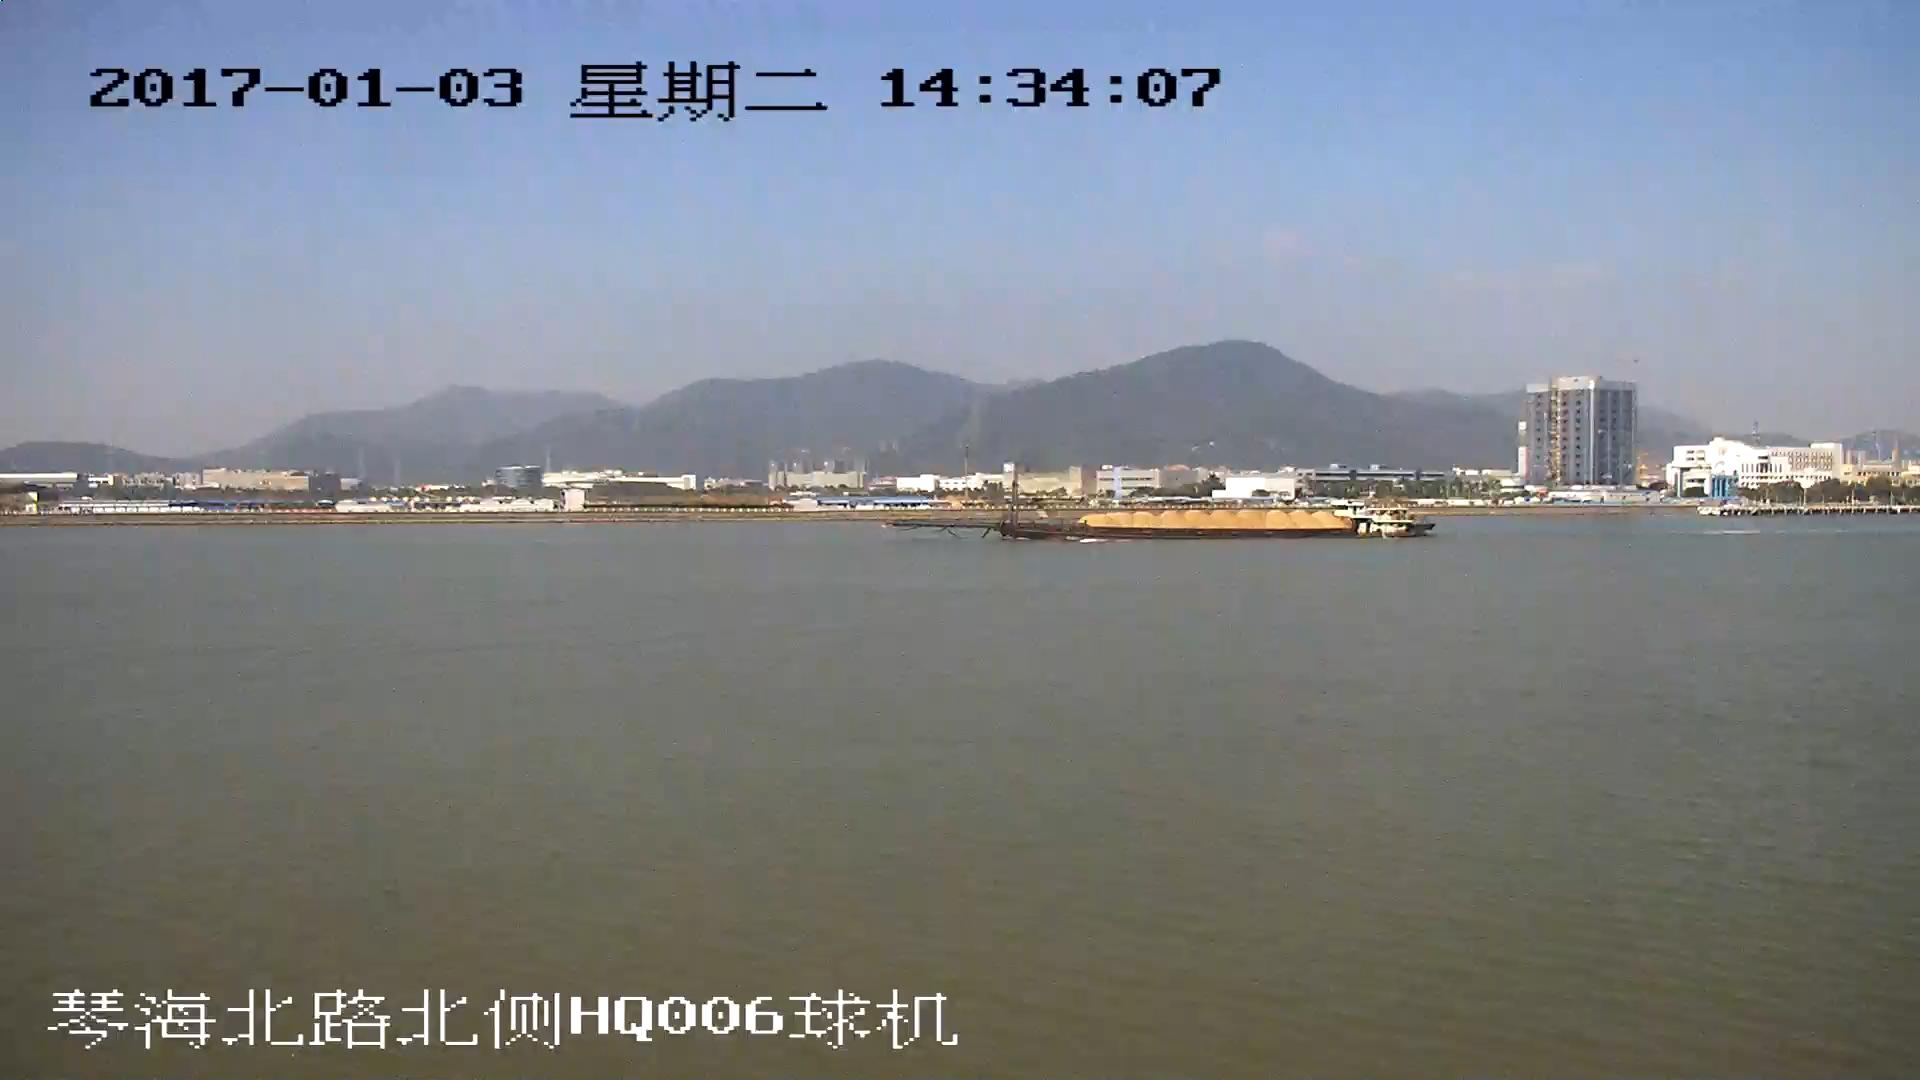ore carrier: (891, 488, 1432, 540)
